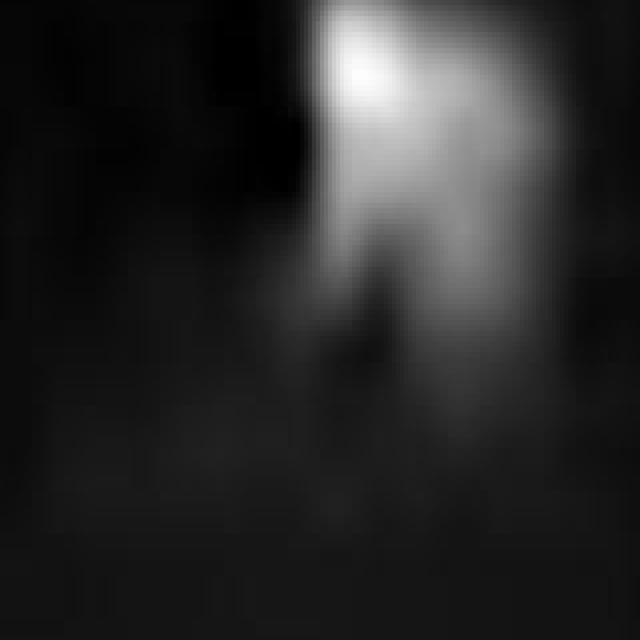person: (289, 1, 561, 428)
